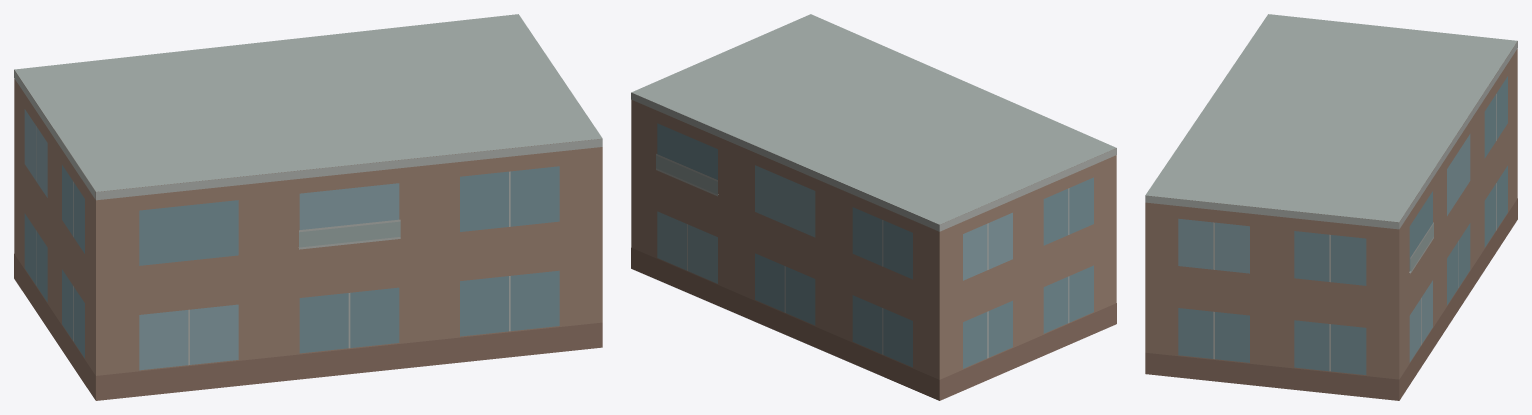
The model's file is survey-upis-32787257.glb.
The picture shows the model from 3 angles, left to right: view 1: azimuth 30°, elevation 25°; view 2: azimuth 150°, elevation 25°; view 3: azimuth 270°, elevation 25°; orthographic projection. The views are drawn at different scales.
Parts seen in each view (by area): view 1: survey-upis-32787257.tmp; view 2: survey-upis-32787257.tmp; view 3: survey-upis-32787257.tmp.
Boxes of the visible parts, <box> form: survey-upis-32787257.tmp: <box>14,14,602,400</box>; survey-upis-32787257.tmp: <box>631,14,1116,400</box>; survey-upis-32787257.tmp: <box>1145,14,1517,400</box>.
Size of the model in its own units: 15.27 by 6.1 by 11.55.
